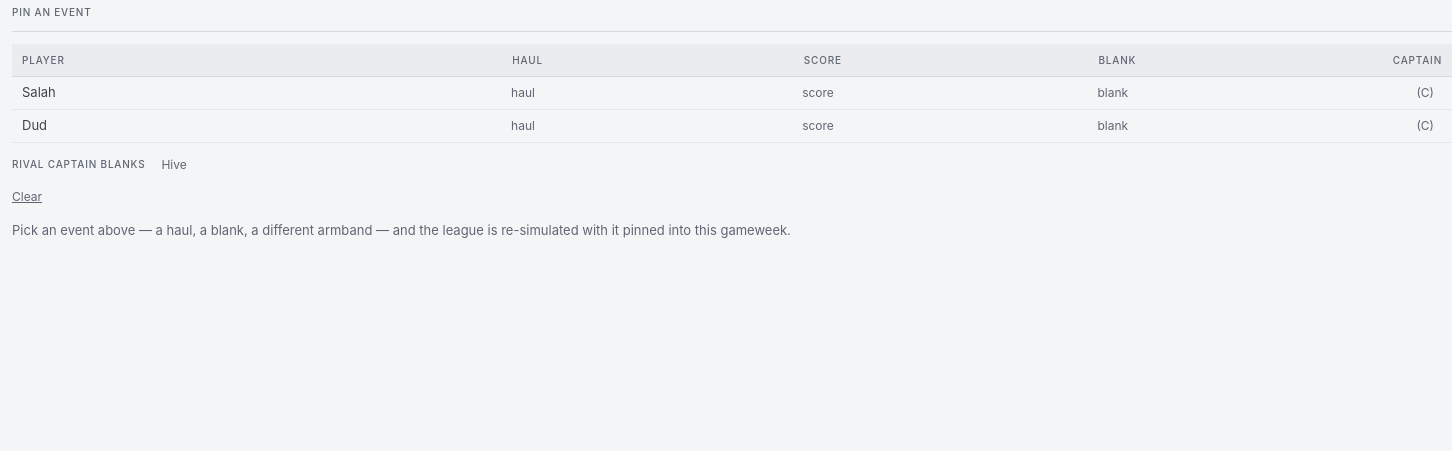
Test: WhatIfSim › reports a code the server could not resolve
Click the button with test id "pin-100-blank": (1113, 92) x1=1090 y1=82 x2=1136 y2=102
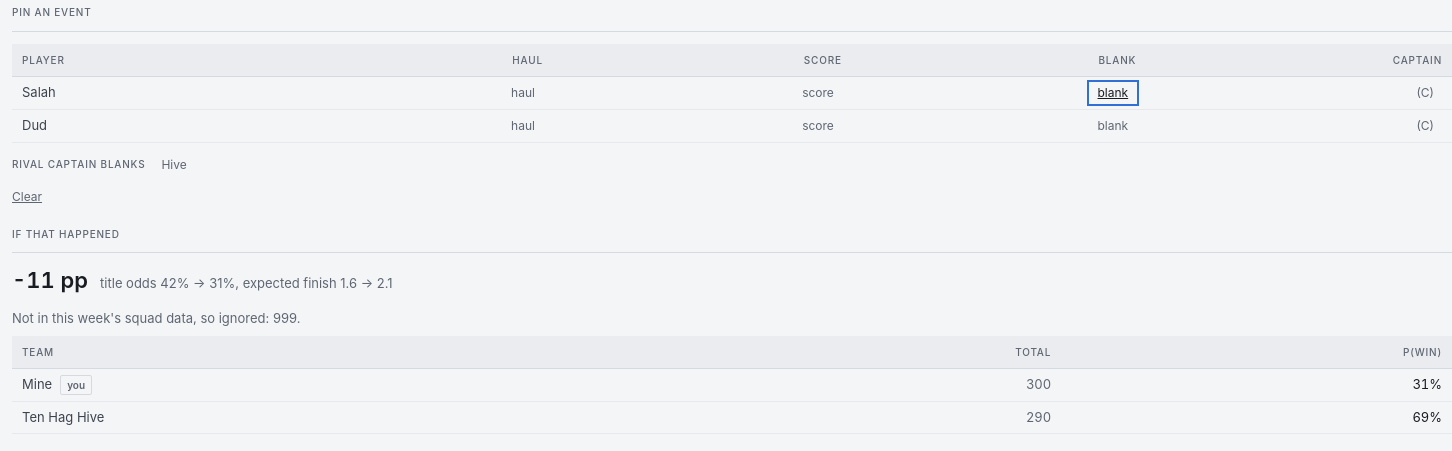
Now the text "Not in this week's squad data, so ignored: 999." is shown, box x1=12 y1=310 x2=300 y2=326
